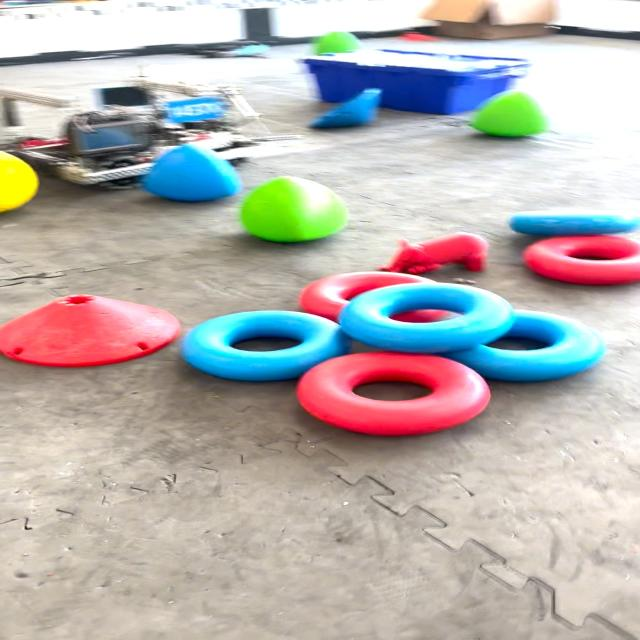Blue-Ring: (338, 282, 516, 353), (182, 310, 349, 381), (442, 310, 607, 381), (509, 210, 640, 235)
Red-Ring: (298, 351, 491, 435), (298, 271, 436, 321), (524, 235, 640, 285), (393, 310, 449, 322)
